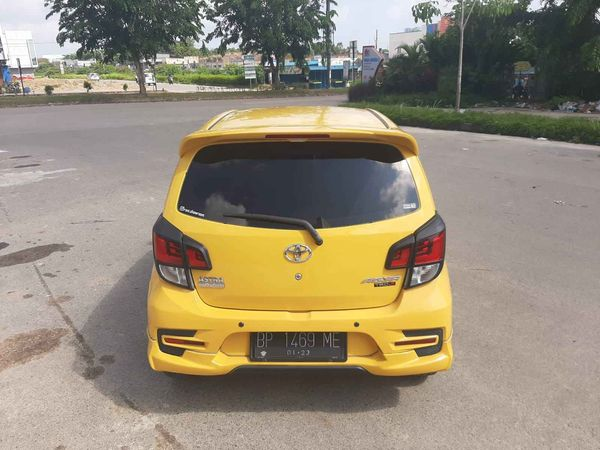plate: (250, 325, 350, 365)
